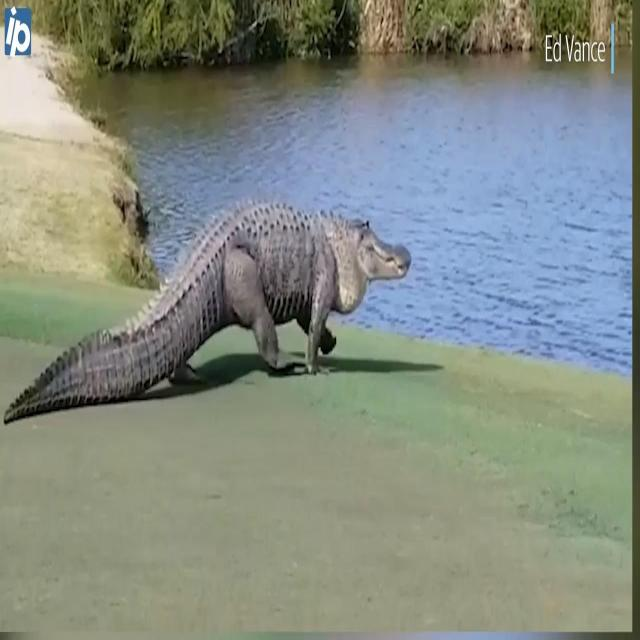crocodile: (3, 141, 440, 483)
